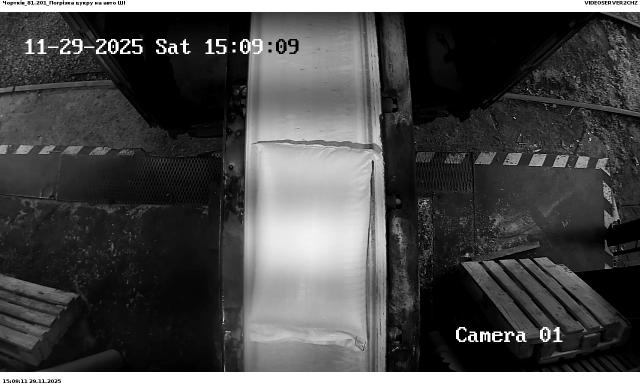bag: (251, 142, 382, 351)
